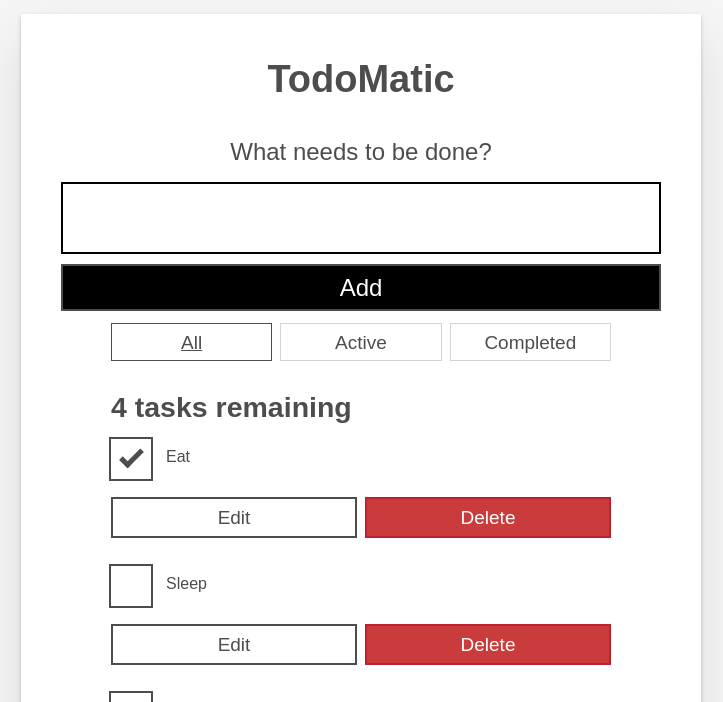
Scenario: Todo App › Test five - update an existing task
The width and height of the screenshot is (723, 702).
Step 1. Click the button with id "btnEdit" → (234, 518), box 111,497 -> 357,538
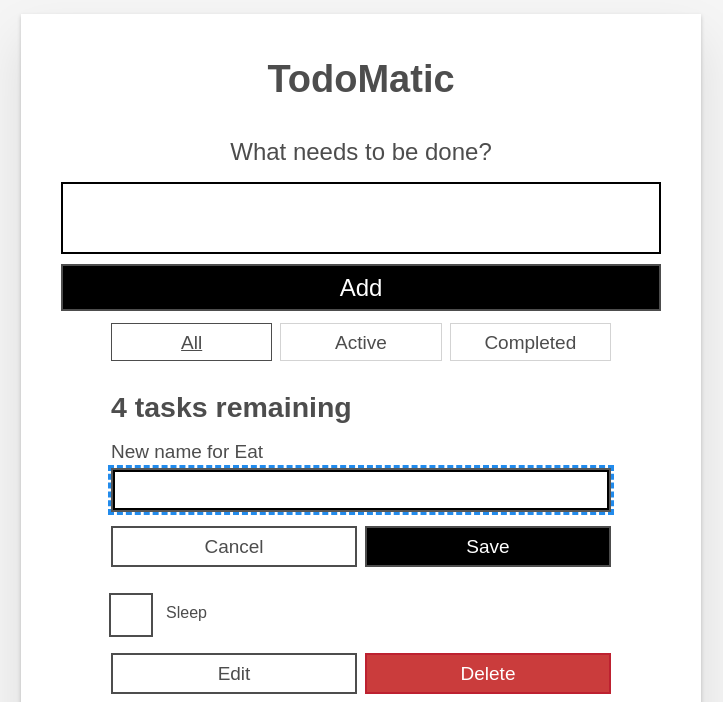
Step 2. Type "Finish TDD" into the field with class "todo-text" → (361, 490), box 111,468 -> 611,512
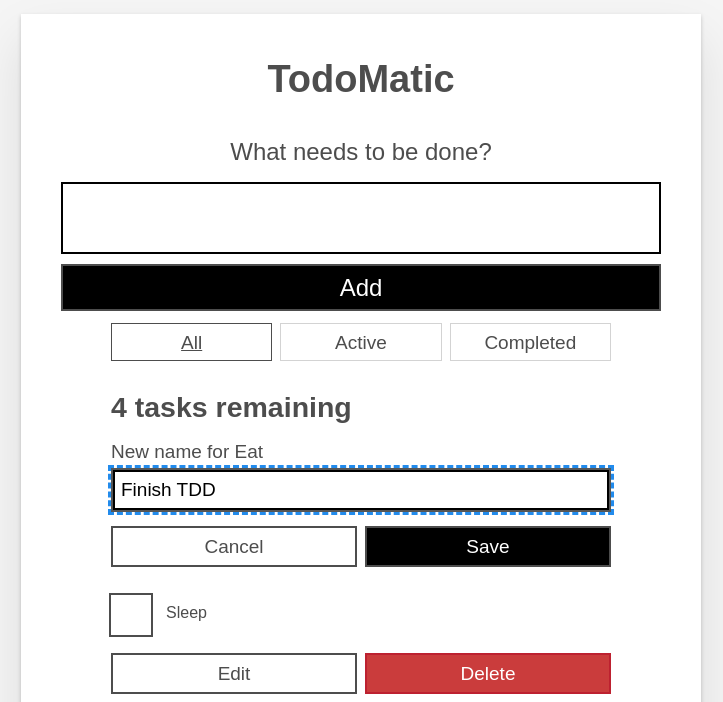
Step 3. Click the button with id "btnSave" → (488, 547), box 365,526 -> 611,567
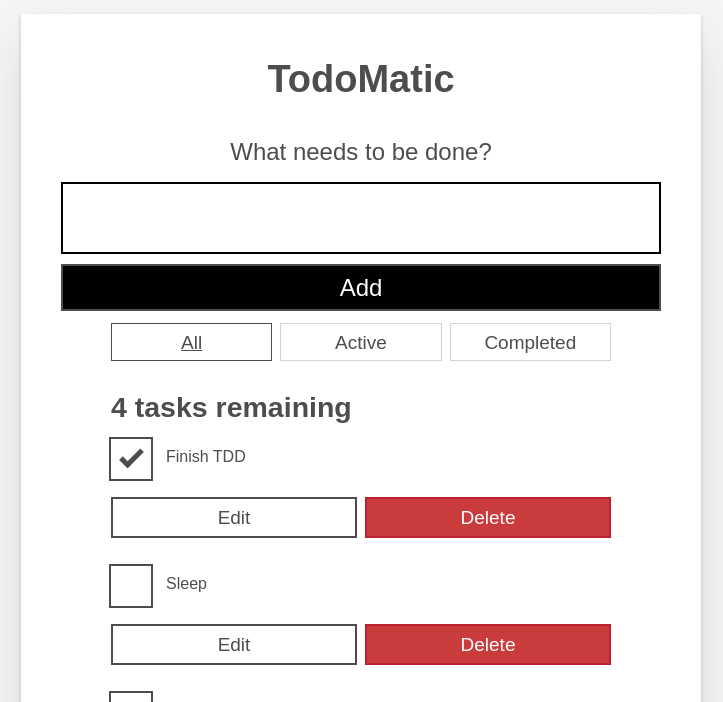
Expected: the checkbox "Finish TDD" is shown, 151,439 -> 261,472
